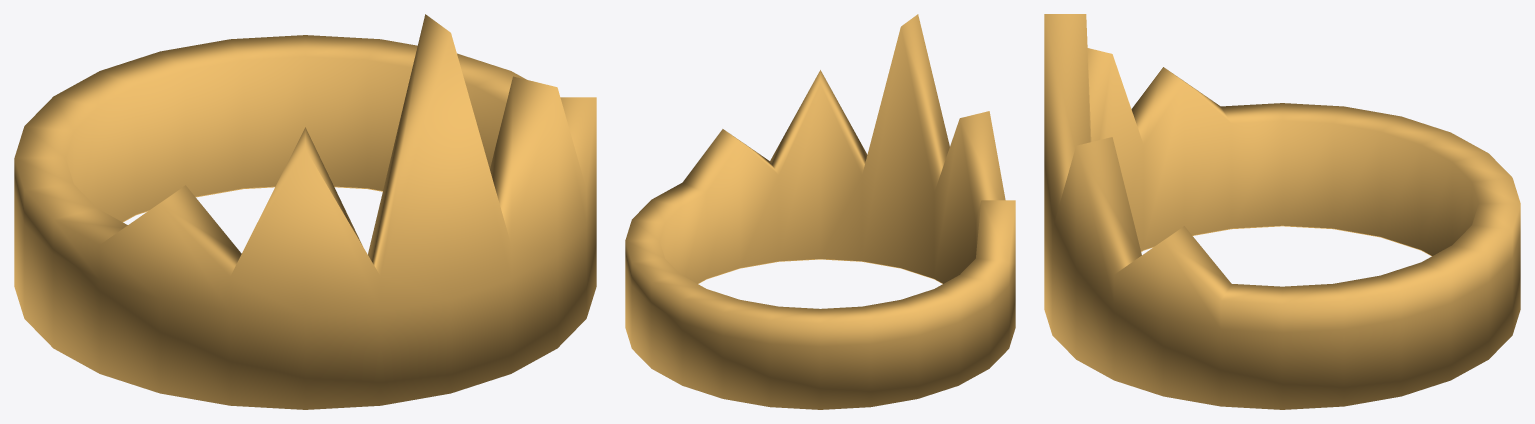
File: crown.fbx
The picture shows the model from 3 angles, left to right: view 1: azimuth 30°, elevation 25°; view 2: azimuth 150°, elevation 25°; view 3: azimuth 270°, elevation 25°; orthographic projection. The views are drawn at different scales.
Parts seen in each view (by area): view 1: Crown; view 2: Crown; view 3: Crown.
Boxes of the visible parts, box(x1,y1,x2,y2) form: Crown: box(14, 14, 596, 409); Crown: box(625, 14, 1015, 409); Crown: box(1044, 14, 1520, 409).
Bounding box in the file's own units: 53.99 × 53.99 × 36.92.
